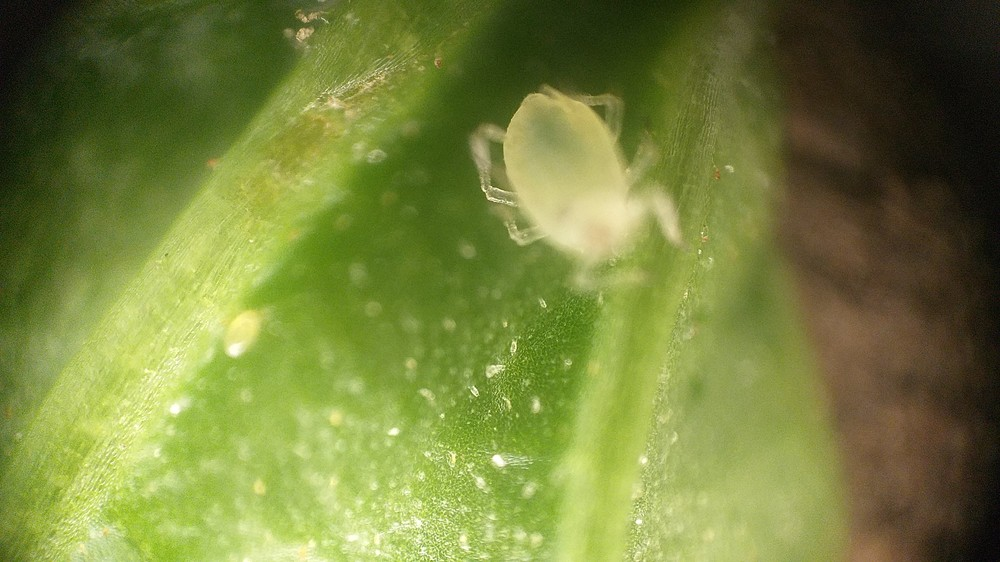Pulgon: (454, 64, 715, 309)
